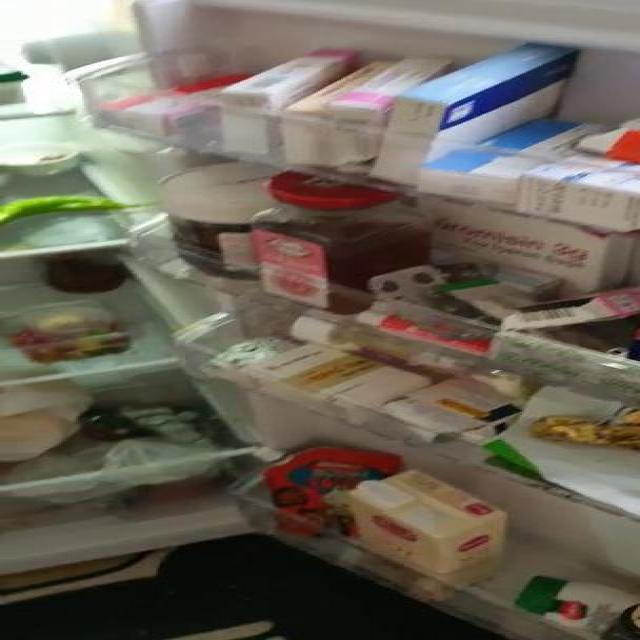green chilies: (0, 197, 128, 224)
milk: (356, 472, 495, 574)
